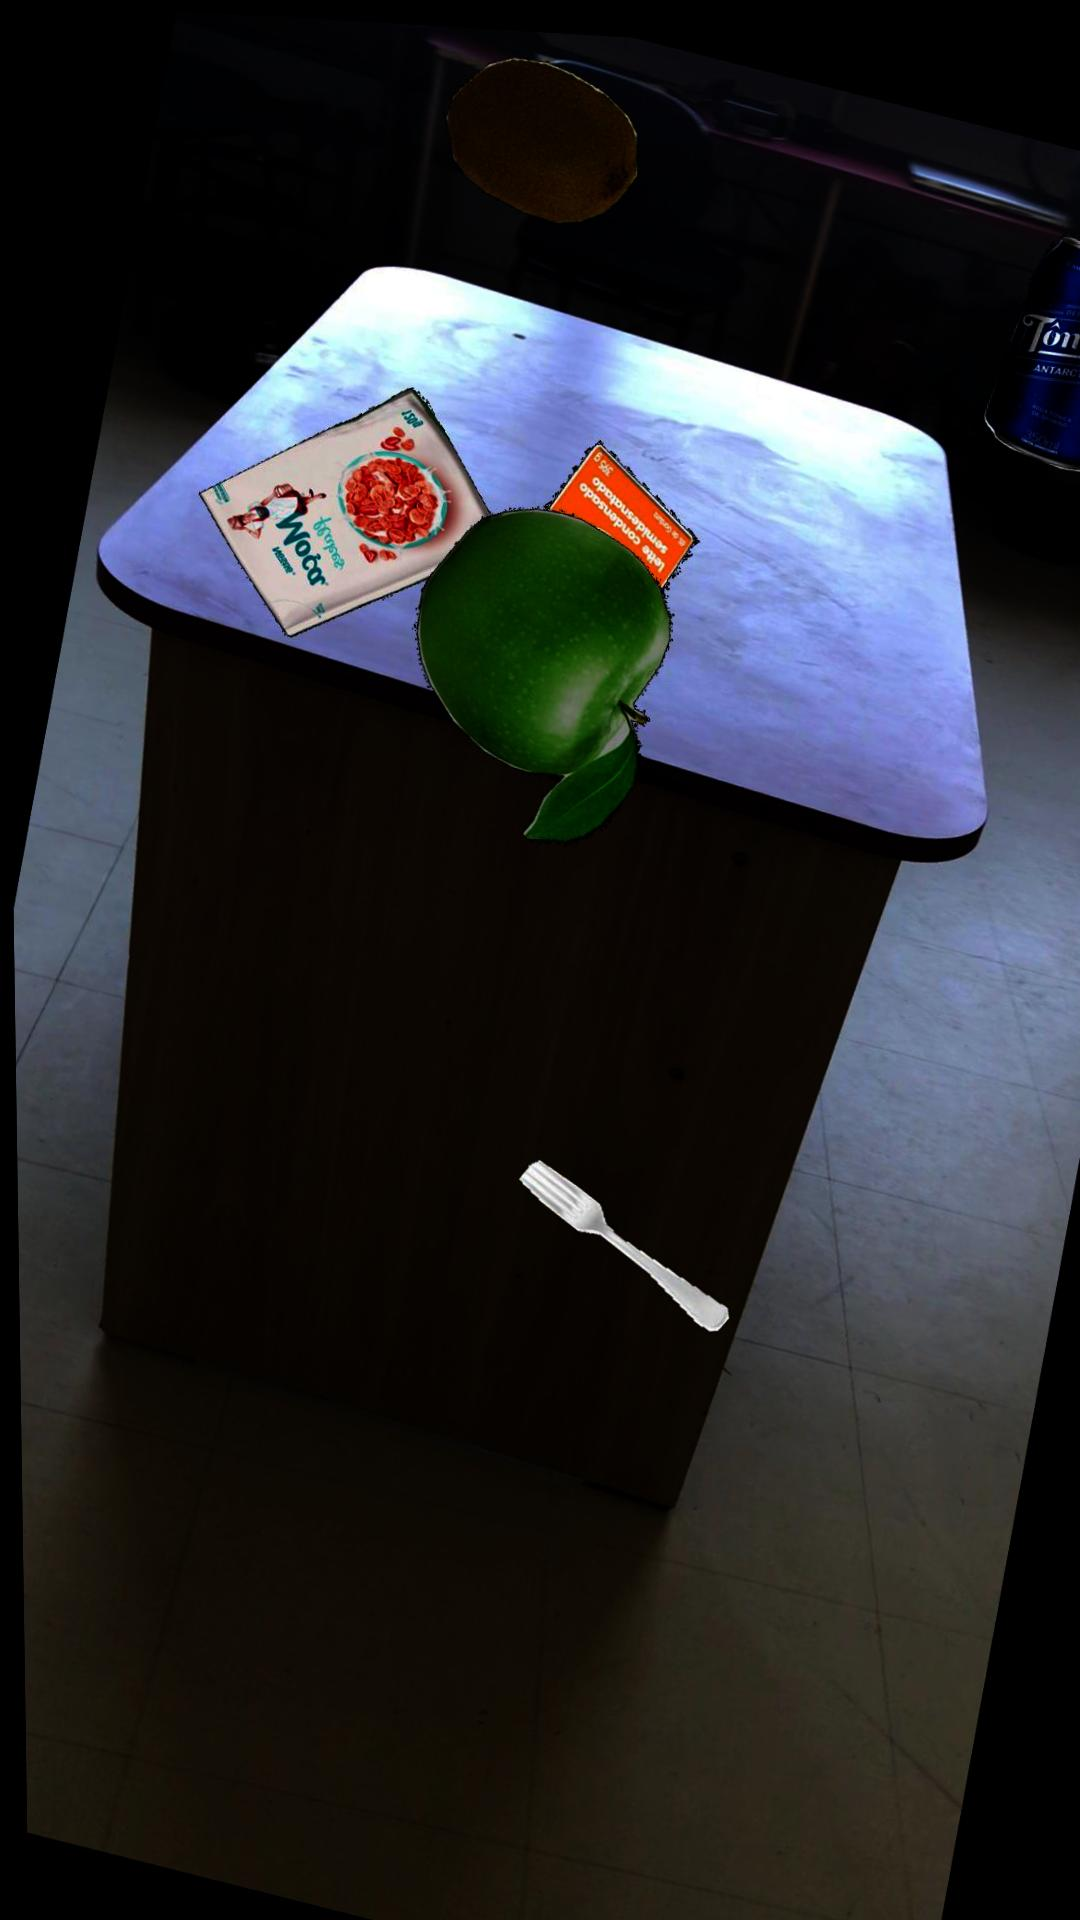corn flakes: (199, 381, 492, 633)
fork: (516, 1151, 728, 1324)
green apple: (417, 500, 673, 837)
kiwi: (447, 50, 640, 216)
tonic: (982, 222, 1080, 459)
